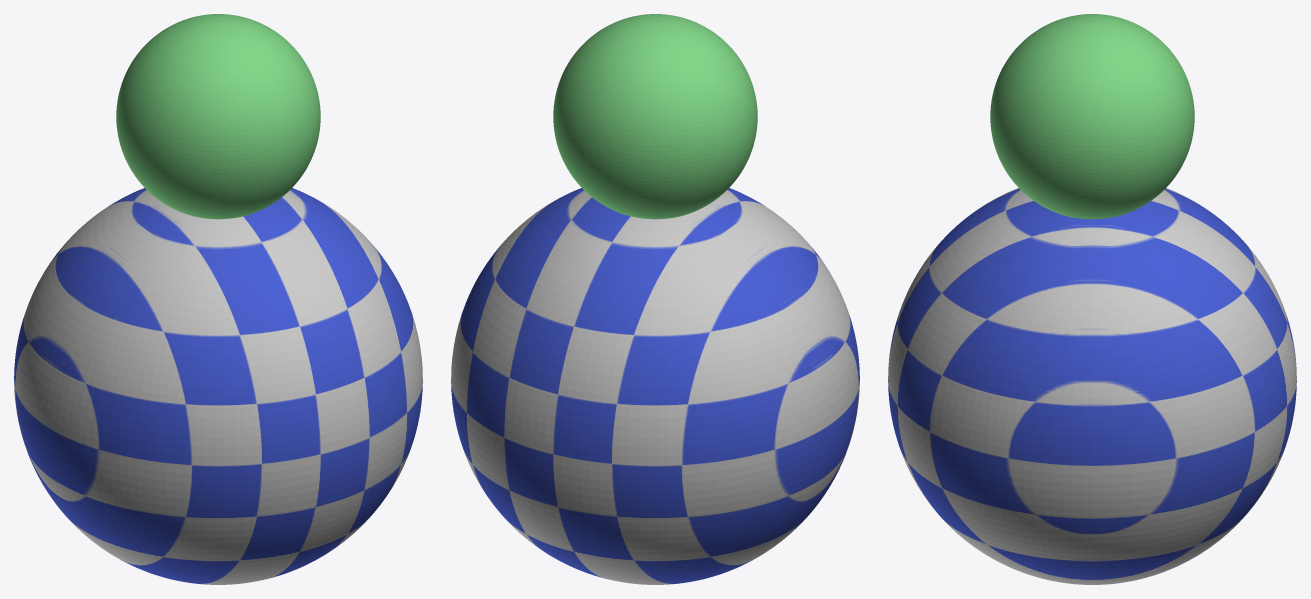
File: BOD0_BMC0_BCC13_BPT4_FRC0_HEA0_HMC13_HCC0_HPT0_ELT0_ERT0_ELL0_ERL0_AP0_AAL0_AAR0_BEK0.fbx
3 renders of one model, left to right at view 1: azimuth 30°, elevation 25°; view 2: azimuth 150°, elevation 25°; view 3: azimuth 270°, elevation 25°, orthographic.
Parts seen in each view (by area): view 1: Body, Head; view 2: Body, Head; view 3: Body, Head.
Boxes of the visible parts, x1,y1,x2,y2 form: Body: (14, 188, 422, 584); Head: (116, 14, 320, 219); Body: (451, 188, 859, 584); Head: (553, 14, 757, 219); Body: (888, 188, 1296, 584); Head: (990, 14, 1194, 219).
Bounding box in the file's own units: 98.72 × 145 × 98.72.
2 materials, 2 textured.
